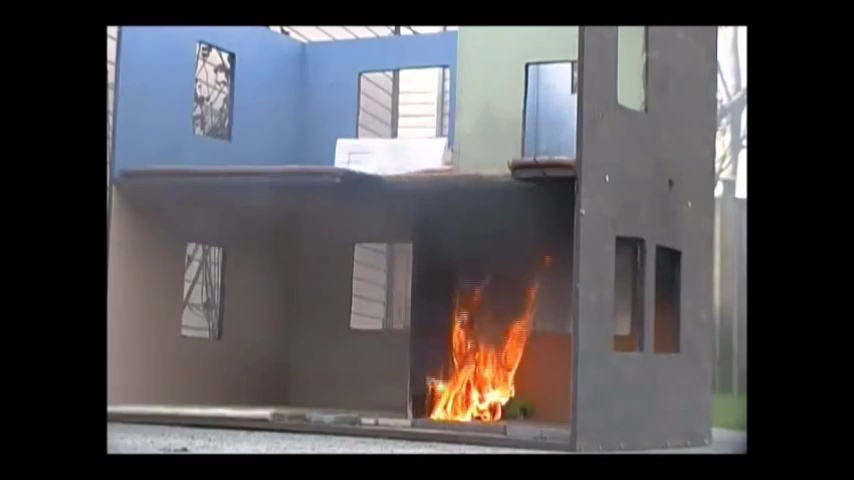fire: (428, 277, 538, 426)
